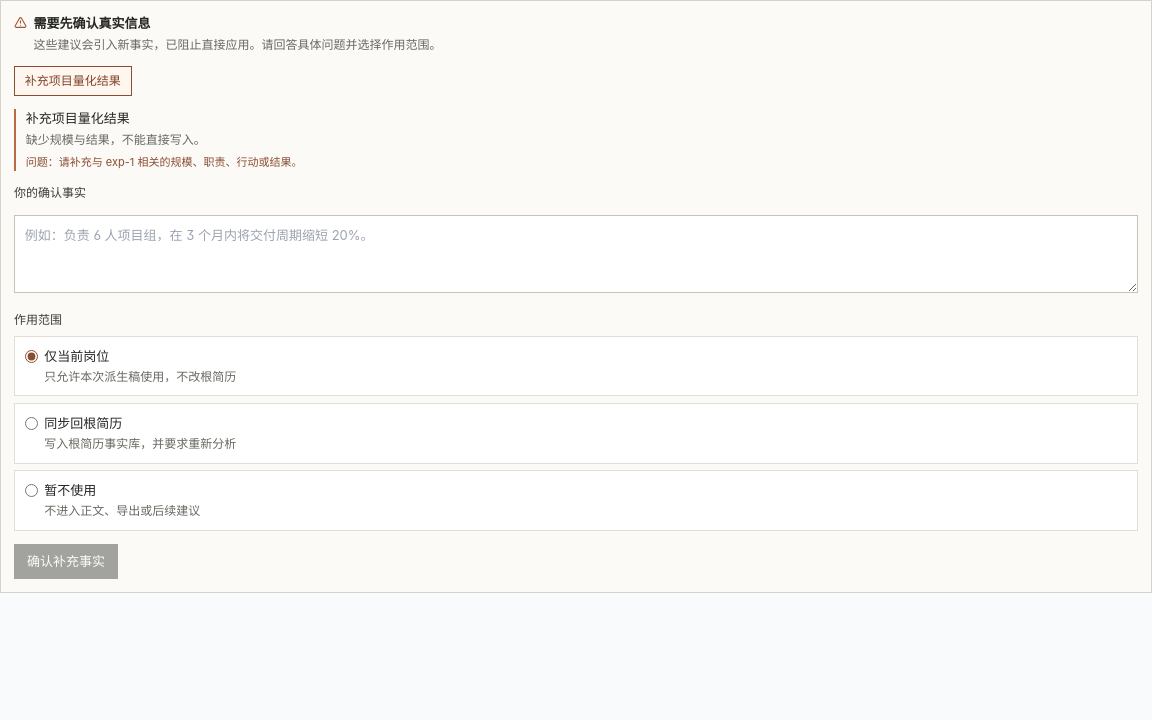
Test case: SupplementFactFlow › blocks direct apply and submits confirmed facts with scope
expect the heading "需要先确认真实信息" is shown: met, box left=34, top=15, right=150, bottom=31
In the text box labelled "你的确认事实": (576, 254) left=14, top=215, right=1138, bottom=293, type "负责 6 人团队，交付周期缩短 20%。"
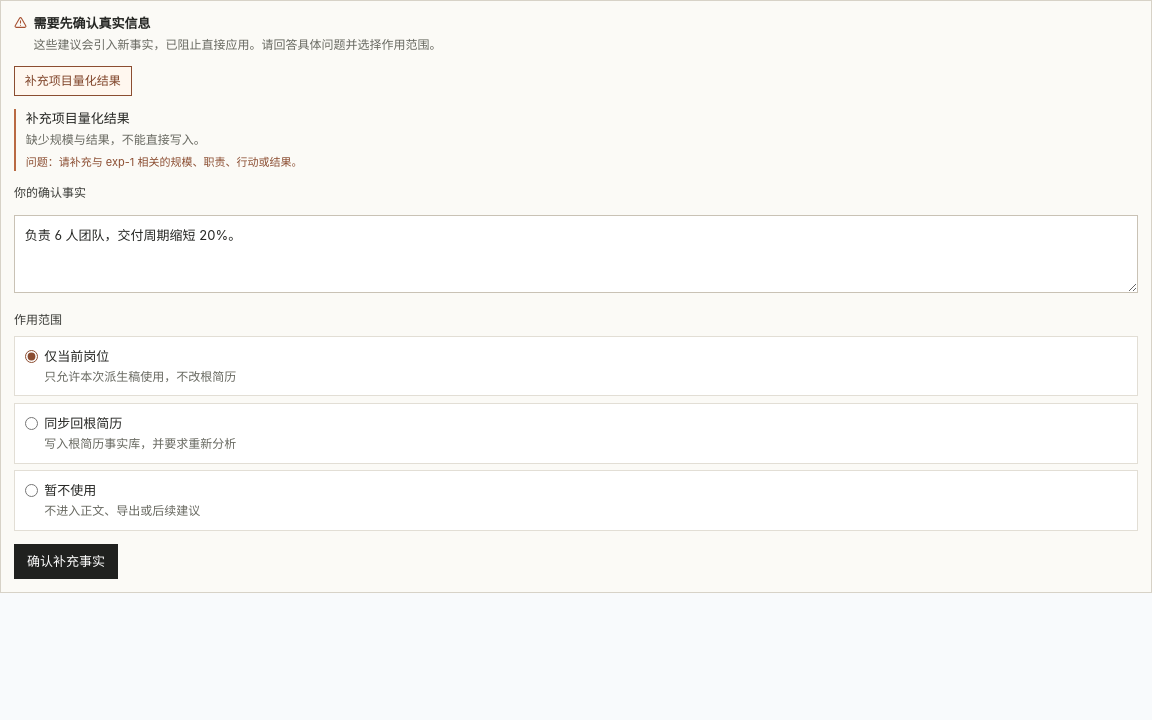
Click the radio button labelled "同步回根简历": (31, 423) left=25, top=417, right=38, bottom=430
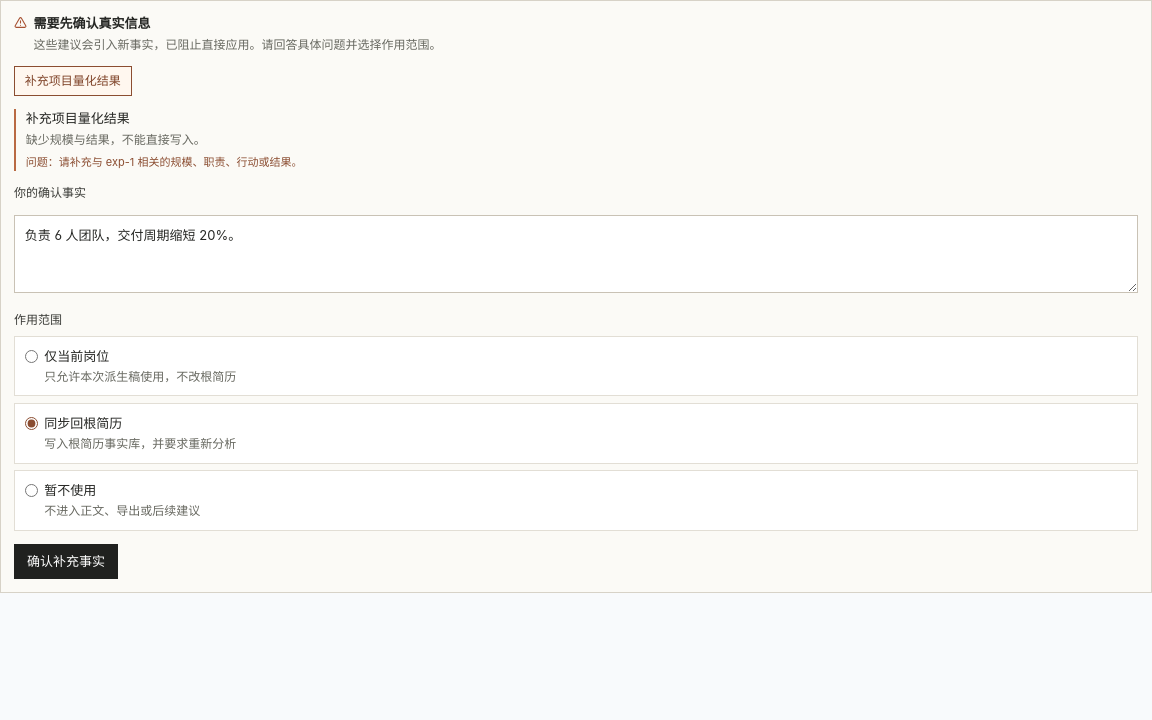
Click the button "确认补充事实": (66, 562) left=14, top=544, right=118, bottom=579
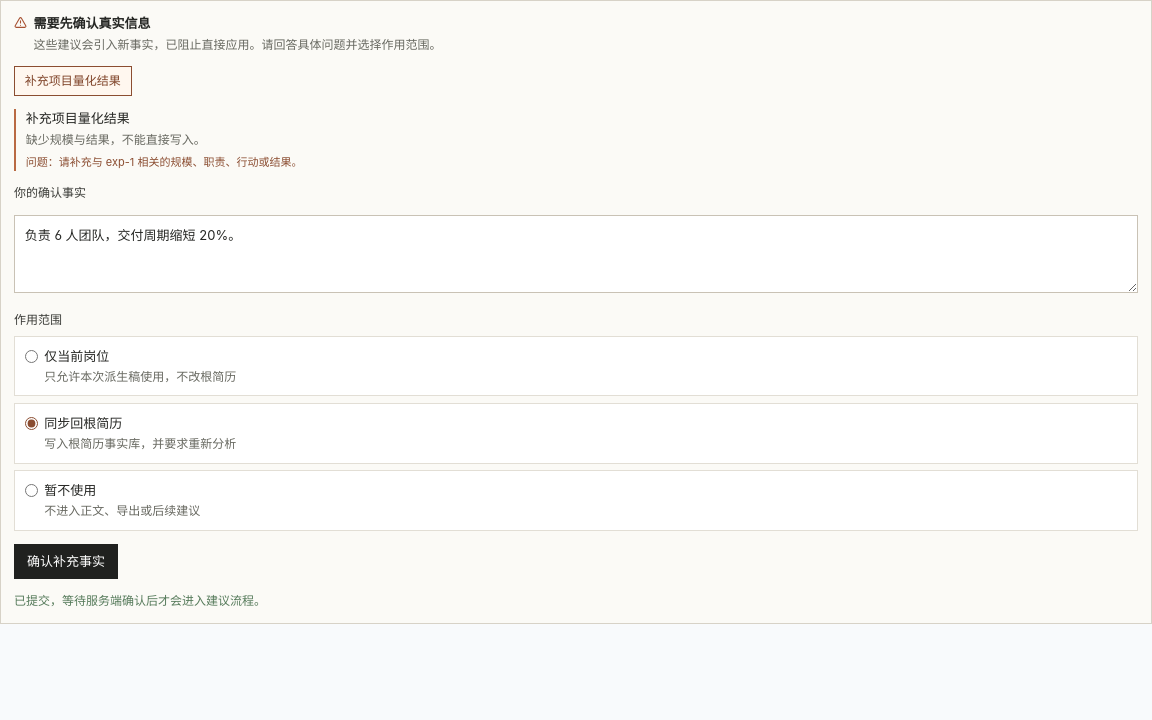
expect the message shows "已提交": met, box left=14, top=593, right=266, bottom=608
